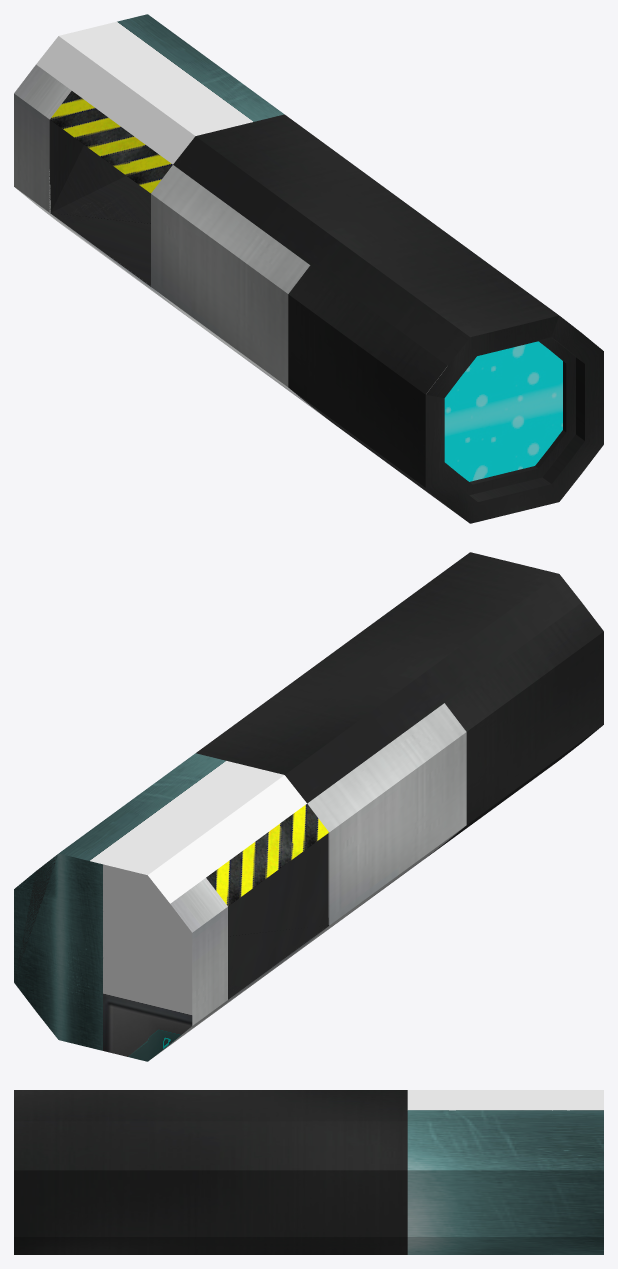
File: GeneratorInsidePiece.fbx
The picture shows the model from 3 angles, top to bottom: view 1: azimuth 30°, elevation 25°; view 2: azimuth 150°, elevation 25°; view 3: azimuth 270°, elevation 25°; orthographic projection. The views are drawn at different scales.
Parts seen in each view (by area): view 1: Cube.001; view 2: Cube.001; view 3: Cube.001.
Part boxes in pixels (<box>): Cube.001: <box>14,14,603,523</box>; Cube.001: <box>14,552,603,1061</box>; Cube.001: <box>14,1090,603,1254</box>.
Size of the model in its own units: 2 by 2 by 8.
